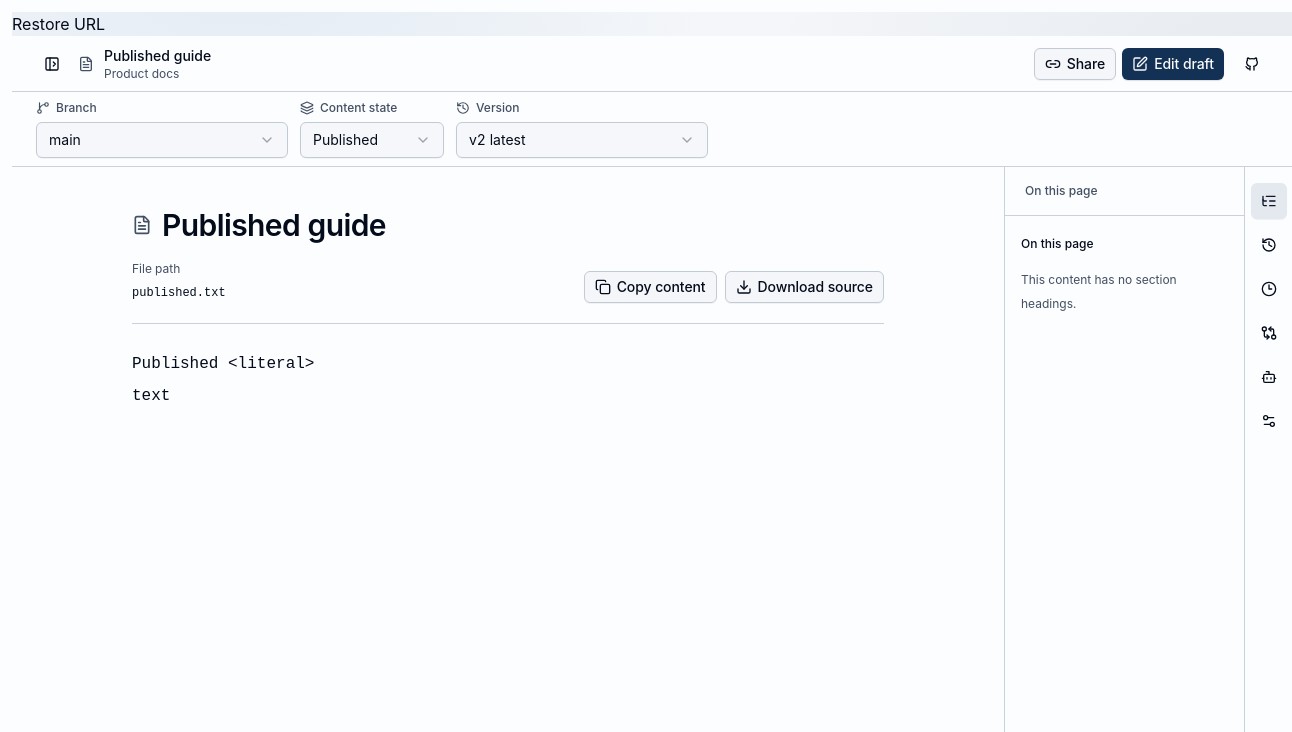
it: document workspace › keeps a branch without versions empty instead of reading another branch latest version
Check: the text "Published <literal> text" is shown, box [132,355,314,405]
Click the dropdown named "Branch": coordinates (162, 140) [36,122,288,158]
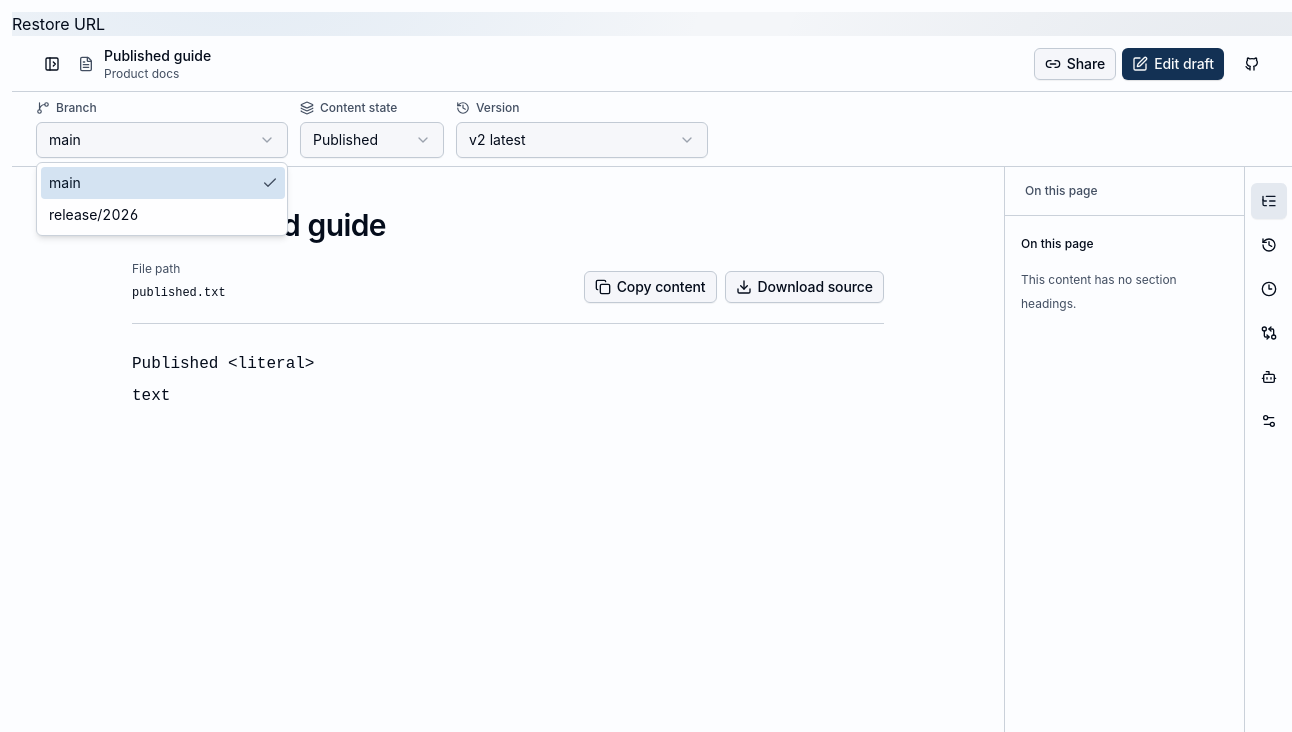
Click the option "release/2026": coordinates (94, 214) [49,206,139,223]
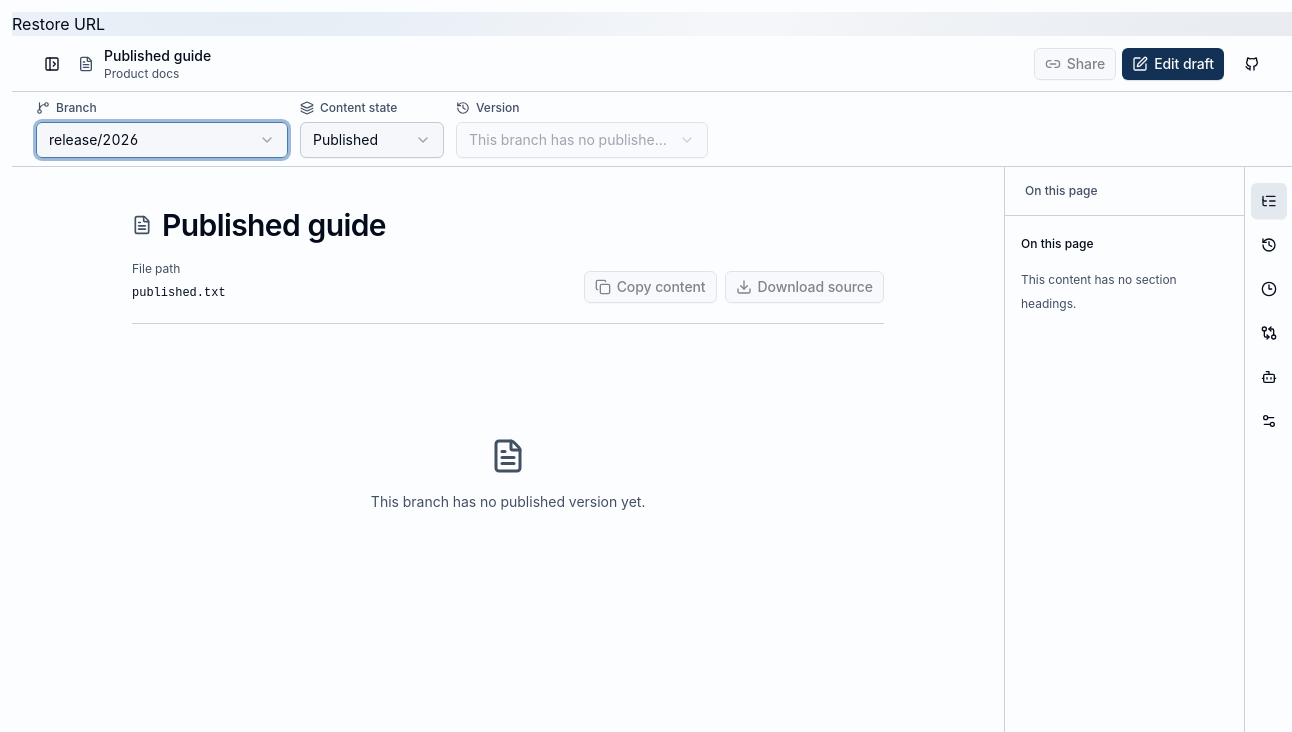
Check: the text "This branch has no published version yet." below "published.txt" is shown, box [371,493,645,510]
Check: the text "Published <literal> text" is gone
Check: the dropdown named "Branch" reads "release/2026", box [36,122,288,158]
